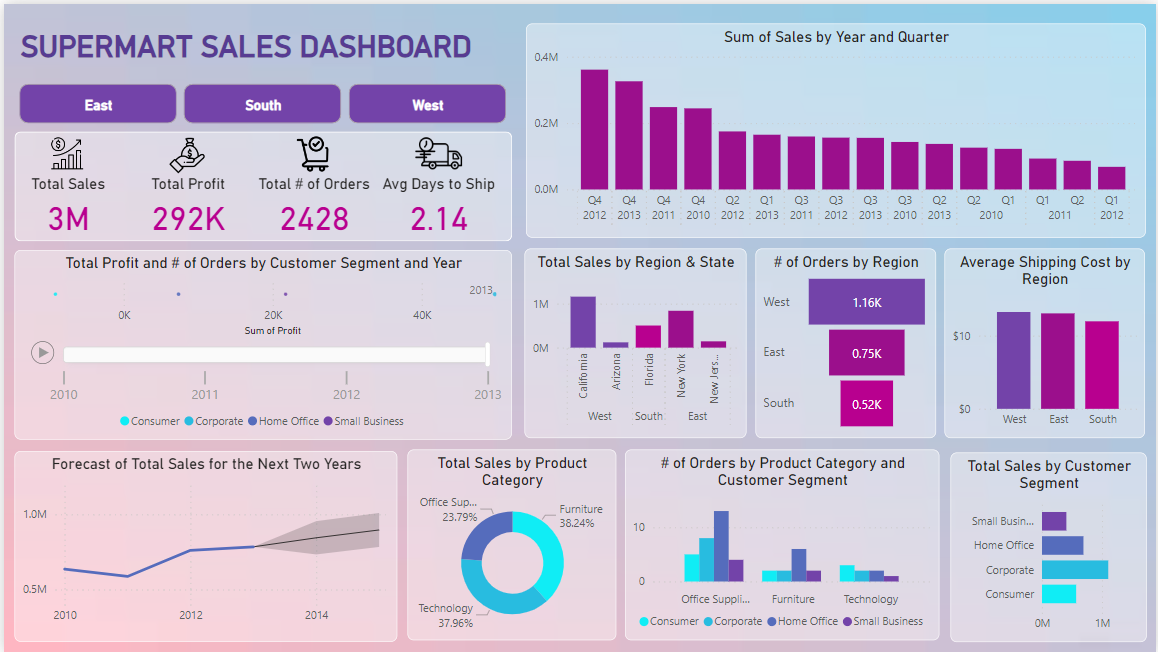

The page's visual inventory and layout, read from the dashboard file:
{"tool":"powerbi","page":{"name":"Dashboard","canvas":[1280,720],"ordinal":1},"visuals":[{"type":"barChart","title":"Total Sales by Customer Segment","fields":{"Category":["Orders.Customer Segment"],"Y":["Sum(Orders.Sales)"]},"box":[1050.9,497.6,218,210.5],"z":0},{"type":"card","title":"Total Sales","fields":{"Values":["Sum(Orders.Sales)"]},"box":[1.5,189.4,139.3,71.2],"z":1000,"group":"g1"},{"type":"clusteredColumnChart","title":"Total Sales by Region & State","fields":{"Category":["Orders.Region Hierarchy.Region","Orders.Region Hierarchy.State"],"Y":["Sum(Orders.Sales)"]},"box":[579,272.2,246.8,210.5],"z":1000},{"type":"lineClusteredColumnComboChart","title":"Average Shipping Cost by Region","fields":{"Category":["Orders.Region"],"Y":["Avg(Orders.Shipping Cost)"]},"box":[1045.4,272.2,222.6,210.5],"z":2000},{"type":"donutChart","title":"Total Sales by Product Category","fields":{"Y":["Sum(Orders.Sales)"],"Category":["Orders.Product Category"]},"box":[448.3,495.6,232,212],"z":3000},{"type":"funnel","title":"# of Orders by Region","fields":{"Category":["Orders.Region"],"Y":["CountNonNull(Orders.Order ID)"]},"box":[835.6,272.2,200.5,210.6],"z":4000},{"type":"scatterChart","title":"Total Profit and # of Orders by Customer Segment and Year","fields":{"Size":["CountNonNull(Orders.Order ID)"],"Series":["Orders.Customer Segment"],"X":["Sum(Orders.Profit)"],"Play":["Dates.Year"]},"box":[11.2,272.7,552.7,210.5],"z":5000},{"type":"lineChart","title":"Forecast of Total Sales for the Next Two Years","fields":{"Y":["Sum(Orders.Sales)"],"Category":["Dates.Year Hierarchy.Year"]},"box":[12.1,496.7,425.5,212],"z":6000},{"type":"clusteredColumnChart","fields":{"Y":["Sum(Orders.Sales)"],"Category":["Dates.Year Hierarchy.Year","Dates.Year Hierarchy.Quarter","Dates.Year Hierarchy.Month"]},"box":[579.9,21.2,689,237.7],"z":7000},{"type":"card","title":"Total # of Orders","fields":{"Values":["CountNonNull(Orders.Order ID)"]},"box":[274.1,189.4,139.3,71.2],"z":8000,"group":"g1"},{"type":"clusteredColumnChart","title":"# of Orders by Product Category and Customer Segment","fields":{"Y":["CountNonNull(Returned Orders.Order ID)"],"Category":["Returned Orders.Product Category"],"Series":["Returned Orders.Customer Segment"]},"box":[690.4,495.6,349.5,212],"z":8000},{"type":"card","title":"Avg Days to Ship","fields":{"Values":["Avg(Orders.Date To Ship)"]},"box":[413.4,189.4,139.3,71.2],"z":9000,"group":"g1"},{"type":"advancedSlicerVisual","fields":{"Values":["Orders.Region"]},"box":[12.1,83.3,552.7,54.5],"z":9000},{"type":"textbox","box":[13.6,21.2,552.7,62.1],"z":10000},{"type":"card","title":"Total Profit","fields":{"Values":["Sum(Orders.Profit)"]},"box":[134.8,189.4,139.3,71.2],"z":11000,"group":"g1"},{"type":"shape","box":[11.8,141.2,552.9,122.1],"z":11000},{"type":"group","id":"g1","title":"Group 1","box":[1.5,133.4,551.2,127.2],"z":12000},{"type":"image","box":[43.4,142.5,54.5,48.5],"z":15000,"group":"g1"},{"type":"image","box":[172.1,144,63.6,50],"z":16000,"group":"g1"},{"type":"image","box":[309.9,142.5,66.6,50],"z":17000,"group":"g1"},{"type":"image","box":[452.2,133.4,62.1,65.1],"z":18000,"group":"g1"}]}

Visuals, with their boxes in screenshot pixels (x1, y1, x2, y2), scaled from the page's 1280x720 canvas onto the 1158x652 screenshot:
"Total Sales by Customer Segment" barChart: box(951, 451, 1148, 641)
"Total Sales" card: box(1, 172, 127, 236)
"Total Sales by Region & State" clusteredColumnChart: box(524, 246, 747, 437)
"Average Shipping Cost by Region" lineClusteredColumnComboChart: box(946, 246, 1147, 437)
"Total Sales by Product Category" donutChart: box(406, 449, 615, 641)
"# of Orders by Region" funnel: box(756, 246, 937, 437)
"Total Profit and # of Orders by Customer Segment and Year" scatterChart: box(10, 247, 510, 438)
"Forecast of Total Sales for the Next Two Years" lineChart: box(11, 450, 396, 642)
clusteredColumnChart - Sum(Orders.Sales) x Dates.Year Hierarchy.Year: box(525, 19, 1148, 234)
"Total # of Orders" card: box(248, 172, 374, 236)
"# of Orders by Product Category and Customer Segment" clusteredColumnChart: box(625, 449, 941, 641)
"Avg Days to Ship" card: box(374, 172, 500, 236)
advancedSlicerVisual - Orders.Region: box(11, 75, 511, 125)
textbox: box(12, 19, 512, 75)
"Total Profit" card: box(122, 172, 248, 236)
shape: box(11, 128, 511, 238)
"Group 1" group: box(1, 121, 500, 236)
image: box(39, 129, 89, 173)
image: box(156, 130, 213, 176)
image: box(280, 129, 341, 174)
image: box(409, 121, 465, 180)
